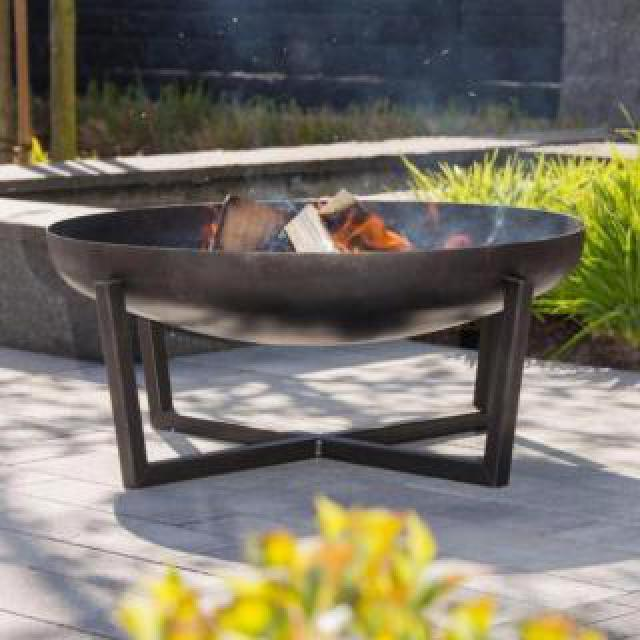Fire: (328, 146, 466, 248)
